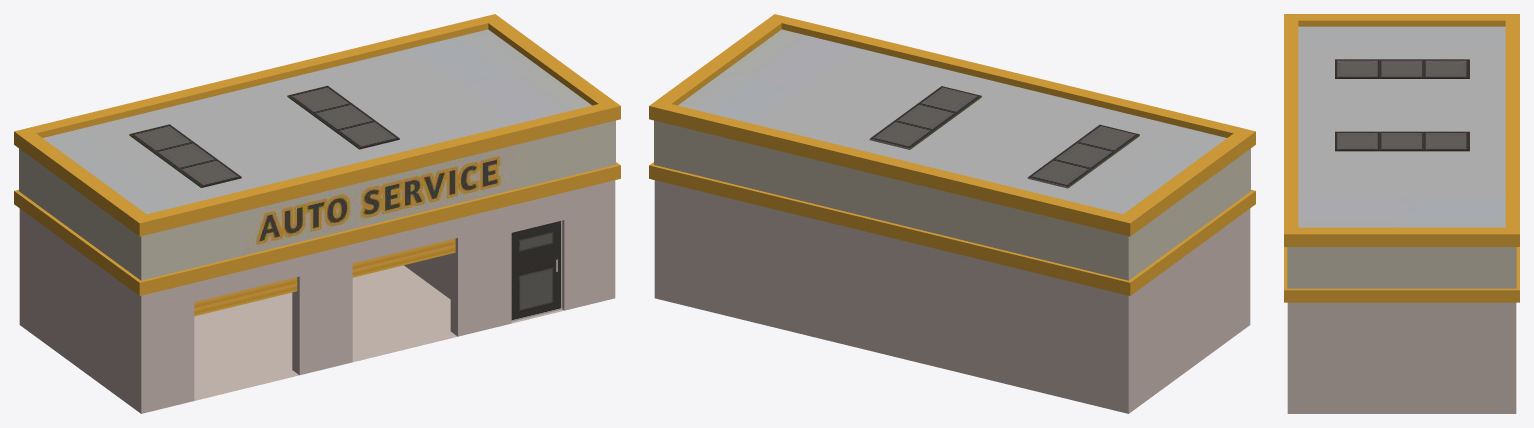
The model's file is Building_Auto Service.glb.
3 views of the same model, side by side, from view 1: azimuth 30°, elevation 25°; view 2: azimuth 150°, elevation 25°; view 3: azimuth 270°, elevation 25° (orthographic). The views are drawn at different scales.
Parts seen in each view (by area): view 1: Building_Auto Service; view 2: Building_Auto Service; view 3: Building_Auto Service.
Boxes of the visible parts, x1,y1,x2,y2 form: Building_Auto Service: (14, 14, 620, 413); Building_Auto Service: (649, 14, 1255, 413); Building_Auto Service: (1284, 14, 1519, 413).
Bounding box in the file's own units: 1.46 × 0.56 × 0.6611.
1 material, 1 textured.
